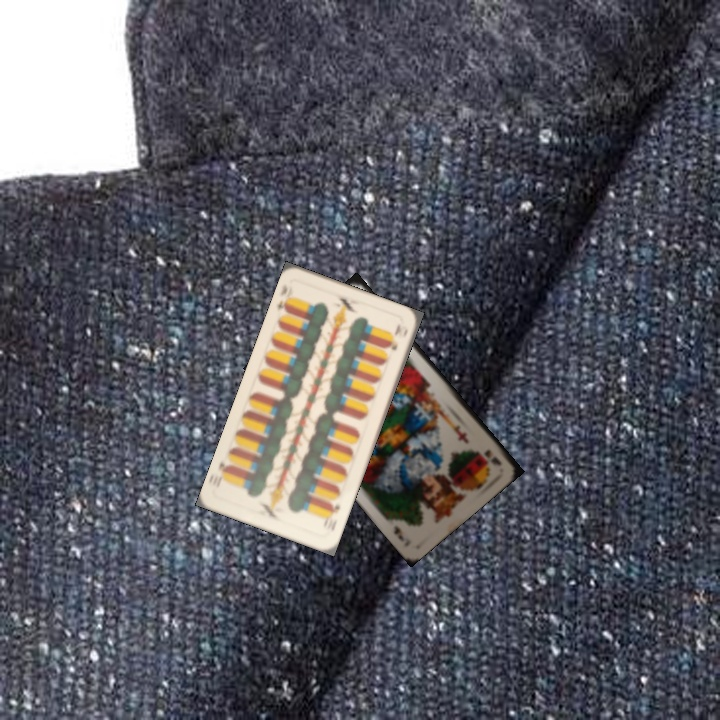E10: (323, 499, 343, 532), (273, 280, 291, 315)
SK: (480, 446, 504, 468)
